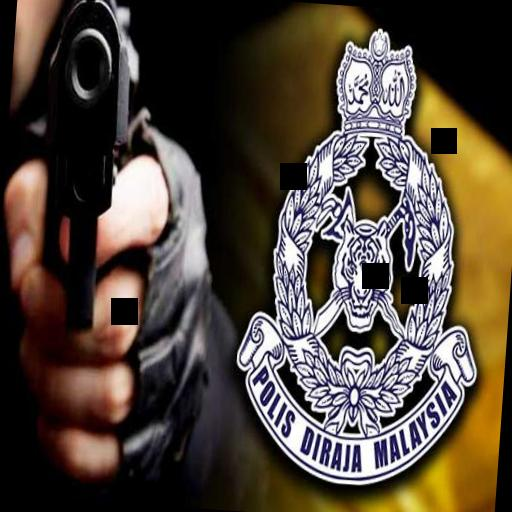Handgun: (28, 0, 152, 336)
